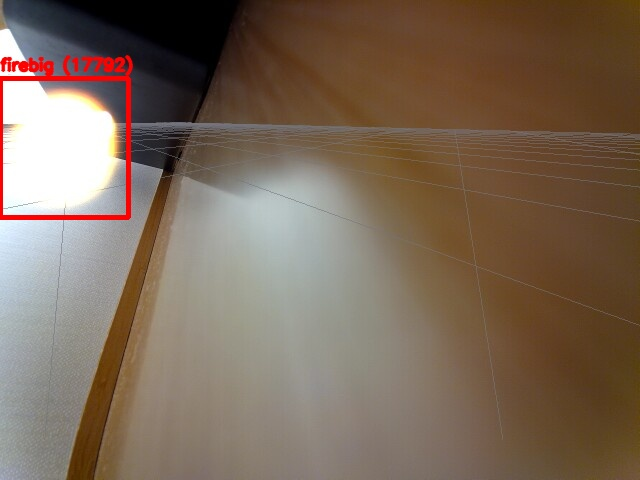firebig: (0, 78, 128, 217)
